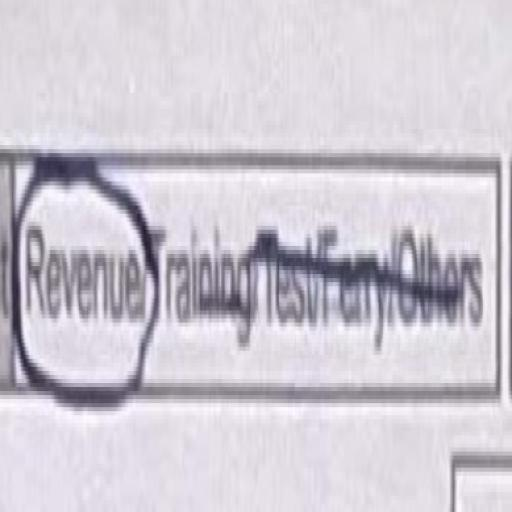check: (6, 69, 154, 478)
